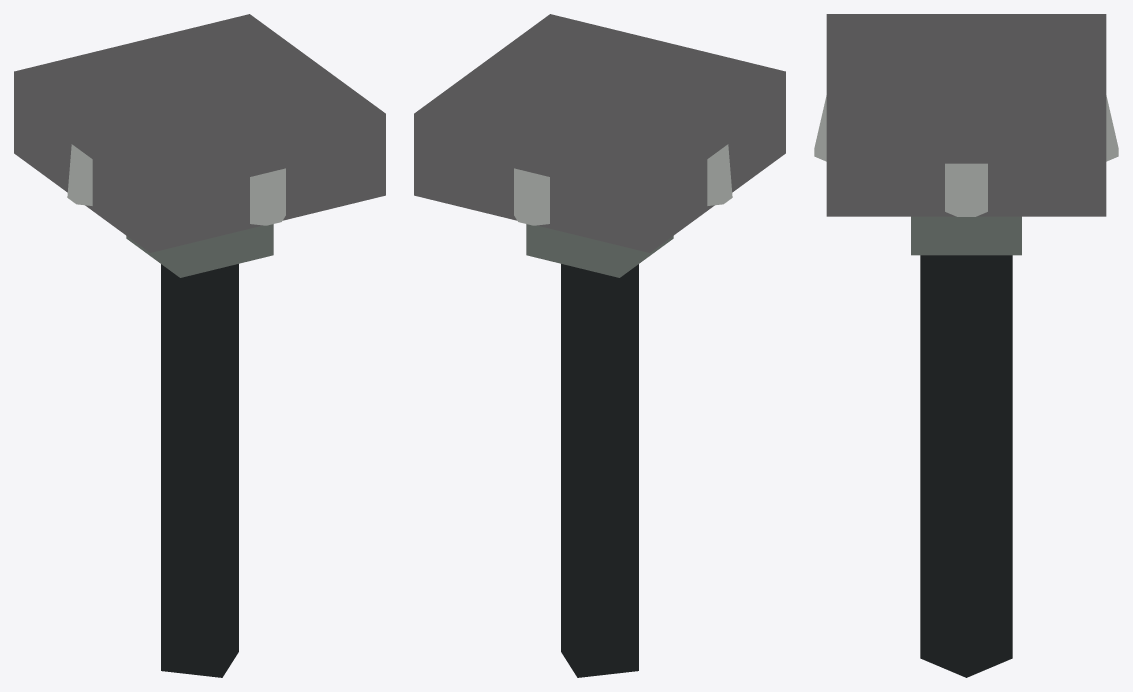
The model's file is RisingPlatformMediumCollision.obj.
The picture shows the model from 3 angles, left to right: view 1: azimuth 30°, elevation 25°; view 2: azimuth 150°, elevation 25°; view 3: azimuth 270°, elevation 25°; orthographic projection. The views are drawn at different scales.
Size of the model in its own units: 165 by 350 by 165.
4 materials, 4 textured.
